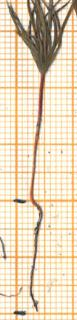flower: (0, 0, 77, 76)
root: (27, 200, 46, 314)
stem: (27, 75, 49, 204)
